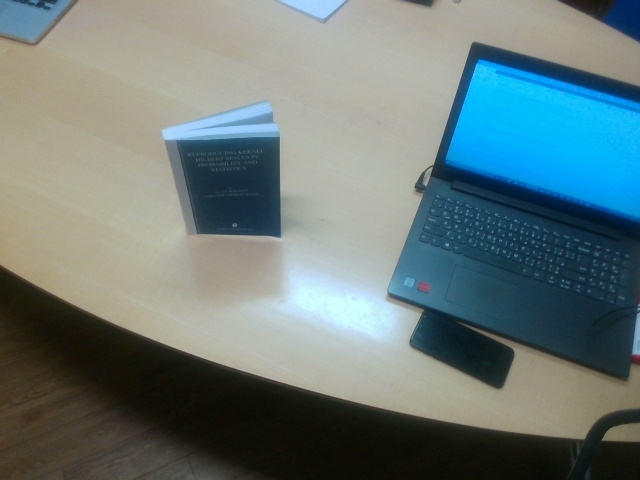book: (161, 101, 281, 238)
